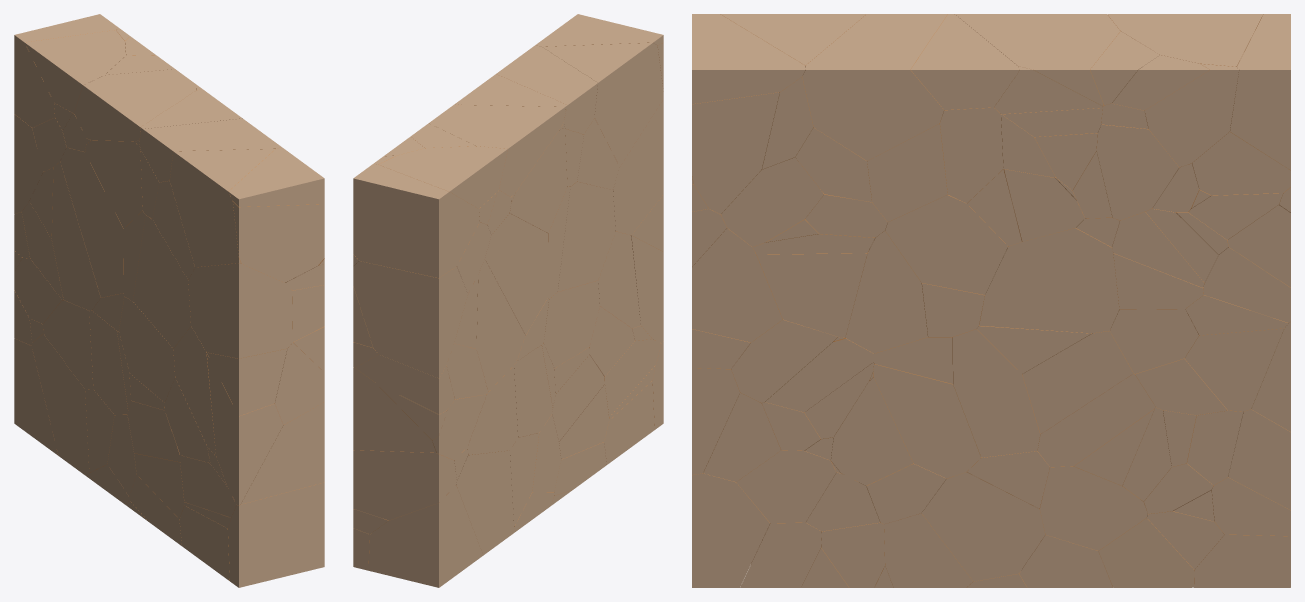
Rendered from brake.fbx.
3 views of the same model, side by side, from view 1: azimuth 30°, elevation 25°; view 2: azimuth 150°, elevation 25°; view 3: azimuth 270°, elevation 25° (orthographic). The views are drawn at different scales.
Visible parts, largest first — view 1: Cube_cell.077, Cube_cell.092, Cube_cell.026, Cube_cell.057, Cube_cell.066, Cube_cell.103, Cube_cell.071, Cube_cell.041, Cube_cell.101, Cube_cell.124, Cube_cell.084, Cube_cell.098 (+38 smaller); view 2: Cube_cell.082, Cube_cell.042, Cube_cell.026, Cube_cell.031, Cube_cell.057, Cube_cell.112, Cube_cell.103, Cube_cell.041, Cube_cell.101, Cube_cell.084, Cube_cell.077, Cube_cell.098 (+38 smaller); view 3: Cube_cell.098, Cube_cell.121, Cube_cell.052, Cube_cell.003, Cube_cell.057, Cube_cell.049, Cube_cell.066, Cube_cell.007, Cube_cell.127, Cube_cell.082, Cube_cell.012, Cube_cell.092 (+71 smaller).
Boxes of the visible parts, x1=… form: Cube_cell.077: x1=188, y1=263, x2=292, y2=358; Cube_cell.092: x1=228, y1=482, x2=324, y2=587; Cube_cell.026: x1=169, y1=149, x2=275, y2=267; Cube_cell.057: x1=74, y1=69, x2=196, y2=141; Cube_cell.066: x1=233, y1=201, x2=324, y2=282; Cube_cell.103: x1=60, y1=147, x2=123, y2=297; Cube_cell.071: x1=206, y1=353, x2=283, y2=505; Cube_cell.041: x1=24, y1=30, x2=125, y2=112; Cube_cell.101: x1=133, y1=215, x2=190, y2=348; Cube_cell.124: x1=240, y1=402, x2=324, y2=504; Cube_cell.084: x1=31, y1=334, x2=89, y2=476; Cube_cell.098: x1=139, y1=118, x2=281, y2=182; Cube_cell.082: x1=353, y1=164, x2=479, y2=277; Cube_cell.042: x1=353, y1=261, x2=467, y2=378; Cube_cell.026: x1=542, y1=42, x2=663, y2=166; Cube_cell.031: x1=368, y1=485, x2=482, y2=587; Cube_cell.057: x1=429, y1=105, x2=565, y2=196; Cube_cell.112: x1=353, y1=450, x2=456, y2=520; Cube_cell.103: x1=485, y1=213, x2=548, y2=335; Cube_cell.041: x1=378, y1=146, x2=507, y2=208; Cube_cell.101: x1=557, y1=182, x2=615, y2=291; Cube_cell.084: x1=456, y1=450, x2=514, y2=555; Cube_cell.077: x1=613, y1=99, x2=663, y2=235; Cube_cell.098: x1=496, y1=45, x2=597, y2=134; Cube_cell.098: x1=802, y1=14, x2=947, y2=160; Cube_cell.121: x1=979, y1=228, x2=1119, y2=333; Cube_cell.052: x1=921, y1=472, x2=1045, y2=581; Cube_cell.003: x1=885, y1=194, x2=1007, y2=294; Cube_cell.057: x1=955, y1=14, x2=1120, y2=106; Cube_cell.049: x1=951, y1=329, x2=1040, y2=457; Cube_cell.066: x1=692, y1=92, x2=779, y2=214; Cube_cell.007: x1=873, y1=363, x2=980, y2=478; Cube_cell.127: x1=692, y1=228, x2=782, y2=342; Cube_cell.082: x1=1229, y1=14, x2=1290, y2=170; Cube_cell.012: x1=692, y1=14, x2=805, y2=104; Cube_cell.092: x1=692, y1=473, x2=769, y2=587.
Size of the model in its own units: 151 by 655 by 686.
